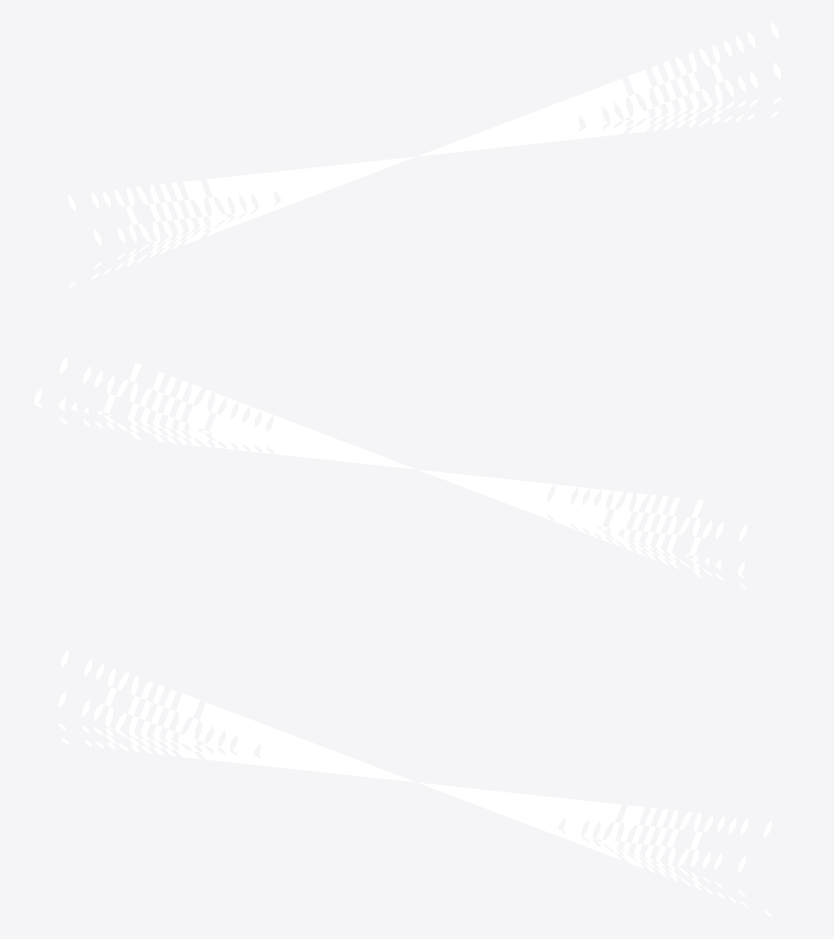
The model's file is beam.glb.
The picture shows the model from 3 angles, top to bottom: view 1: azimuth 30°, elevation 25°; view 2: azimuth 150°, elevation 25°; view 3: azimuth 330°, elevation 25°; orthographic projection.
Visible parts, largest first — view 1: Beam; view 2: Beam; view 3: Beam.
Part boxes in pixels (<box>): Beam: <box>68,22,780,288</box>; Beam: <box>34,357,746,589</box>; Beam: <box>58,650,771,916</box>.
Bounding box in the file's own units: 10 × 1.3 × 1.3.
Materials: 1 (1 with a texture image).
